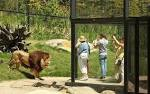lion: (6, 45, 52, 86)
